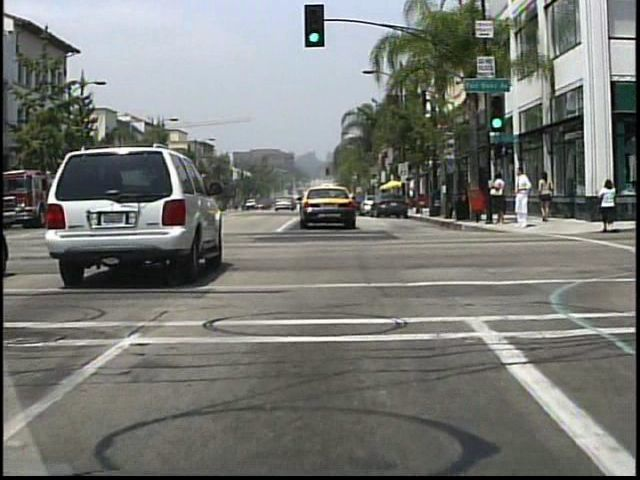person: (512, 168, 532, 229), (596, 177, 616, 233), (491, 170, 507, 229), (538, 171, 555, 224), (406, 188, 416, 214)
